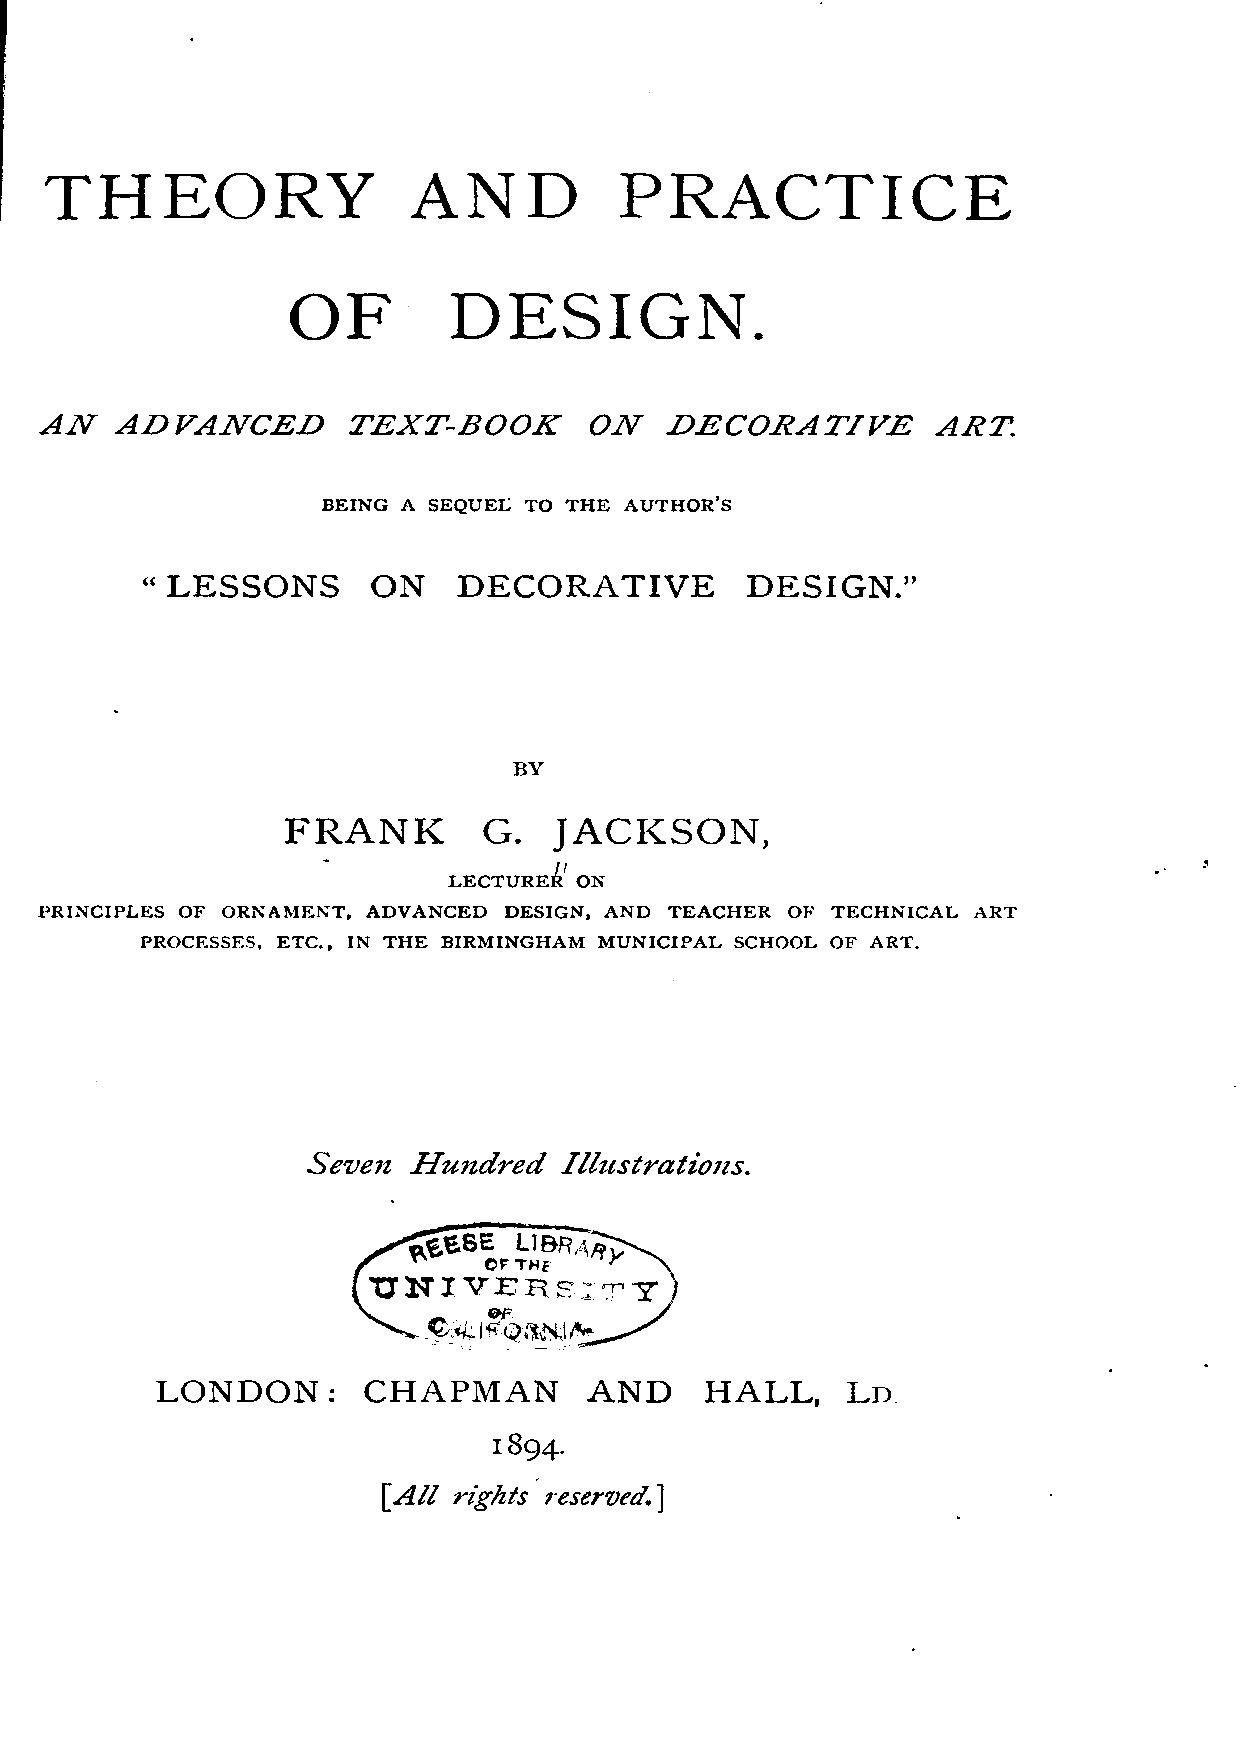author: (280, 760, 768, 849)
title: (39, 172, 1012, 344)
